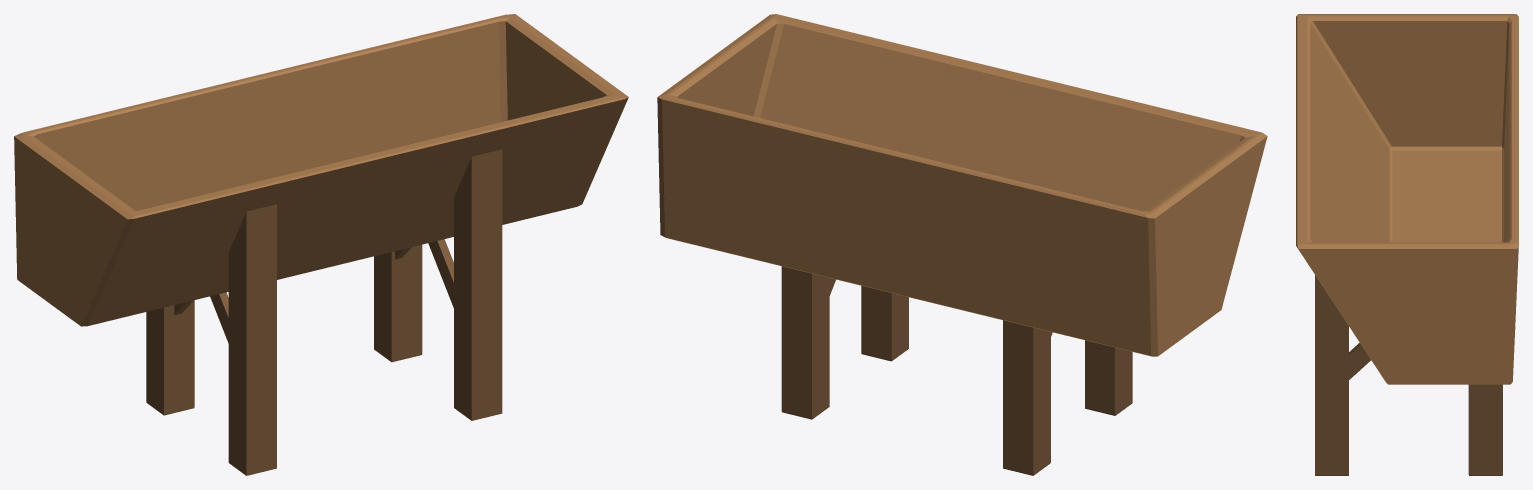
File: FoodBowl.fbx
3 renders of one model, left to right at view 1: azimuth 30°, elevation 25°; view 2: azimuth 150°, elevation 25°; view 3: azimuth 270°, elevation 25°, orthographic. The views are drawn at different scales.
Parts seen in each view (by area): view 1: FoodBowl.001, Wooden_plank1.009; view 2: FoodBowl.001, Wooden_plank1.009; view 3: FoodBowl.001, Wooden_plank1.009.
Part boxes in pixels (<box>): FoodBowl.001: <box>14,14,628,326</box>; Wooden_plank1.009: <box>146,149,502,475</box>; FoodBowl.001: <box>657,14,1267,356</box>; Wooden_plank1.009: <box>781,266,1132,475</box>; FoodBowl.001: <box>1296,14,1518,384</box>; Wooden_plank1.009: <box>1315,275,1502,475</box>.
Size of the model in its own units: 314 by 177 by 126.
